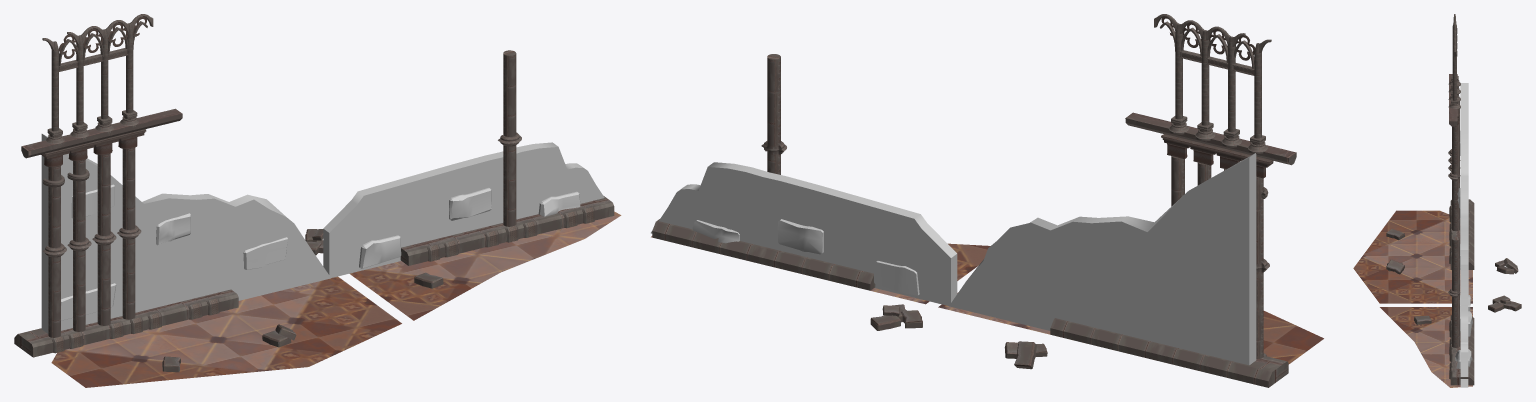
File: ArchitectureSet1.fbx
3 views of the same model, side by side, from view 1: azimuth 30°, elevation 25°; view 2: azimuth 150°, elevation 25°; view 3: azimuth 270°, elevation 25° (orthographic). The views are drawn at different scales.
Visible parts, largest first — view 1: pPlane3, pasted__pasted__polySurface225, pasted__pasted__polySurface224, pasted__pasted__pCube101, pasted__pasted__pCube111, pasted__pasted__pCylinder50, pasted__pasted__pCylinder48, pasted__pasted__pCylinder49, pasted__pasted__pCylinder47, pasted__pasted__pCylinder46, pasted__pasted__pCube107, pCube237 (+9 smaller); view 2: pasted__pasted__polySurface225, pasted__pasted__polySurface224, pasted__pasted__pCube101, pasted__pasted__pCube111, pPlane3, pasted__pasted__pCylinder50, pasted__pasted__pCube107, pasted__pasted__pCylinder46, pCube235, pCube238, pasted__pasted__polySurface232, pasted__pasted__polySurface226 (+4 smaller); view 3: pPlane3, pasted__pasted__polySurface225, pasted__pasted__polySurface224, pasted__pasted__pCylinder50, pasted__pasted__pCube111, pasted__pasted__pCylinder49, pasted__pasted__pCube101, pasted__pasted__polySurface235, pasted__pasted__pCube107, pCube252.
Part boxes in pixels (box(x1,y1,x2,y2)): pPlane3: box(51, 211, 621, 387); pasted__pasted__polySurface225: box(41, 134, 330, 333); pasted__pasted__polySurface224: box(323, 142, 604, 277); pasted__pasted__pCube101: box(14, 289, 238, 357); pasted__pasted__pCube111: box(400, 196, 614, 265); pasted__pasted__pCylinder50: box(498, 50, 521, 226); pasted__pasted__pCylinder48: box(92, 153, 116, 325); pasted__pasted__pCylinder49: box(117, 148, 141, 319); pasted__pasted__pCylinder47: box(67, 159, 91, 331); pasted__pasted__pCylinder46: box(43, 166, 66, 337); pasted__pasted__pCube107: box(21, 108, 182, 158); pCube237: box(449, 188, 491, 220); pasted__pasted__polySurface225: box(949, 153, 1256, 365); pasted__pasted__polySurface224: box(651, 162, 957, 305); pasted__pasted__pCube101: box(1050, 318, 1288, 387); pasted__pasted__pCube111: box(652, 219, 875, 290); pPlane3: box(651, 236, 1323, 364); pasted__pasted__pCylinder50: box(761, 54, 786, 174); pasted__pasted__pCube107: box(1125, 112, 1296, 165); pasted__pasted__pCylinder46: box(1256, 176, 1269, 358); pCube235: box(777, 219, 823, 254); pCube238: box(874, 261, 919, 296); pasted__pasted__polySurface232: box(1195, 52, 1215, 141); pasted__pasted__polySurface226: box(1248, 64, 1267, 153); pPlane3: box(1353, 210, 1472, 387); pasted__pasted__polySurface225: box(1460, 83, 1468, 294); pasted__pasted__polySurface224: box(1460, 264, 1468, 387); pasted__pasted__pCylinder50: box(1448, 237, 1460, 347); pasted__pasted__pCube111: box(1449, 315, 1474, 385); pasted__pasted__pCylinder49: box(1448, 121, 1460, 230); pasted__pasted__pCube101: box(1449, 199, 1474, 269); pasted__pasted__polySurface235: box(1448, 57, 1460, 109); pasted__pasted__pCube107: box(1449, 74, 1457, 126); pCube252: box(1386, 259, 1404, 274).
Size of the model in its own units: 1253 by 645 by 489.
